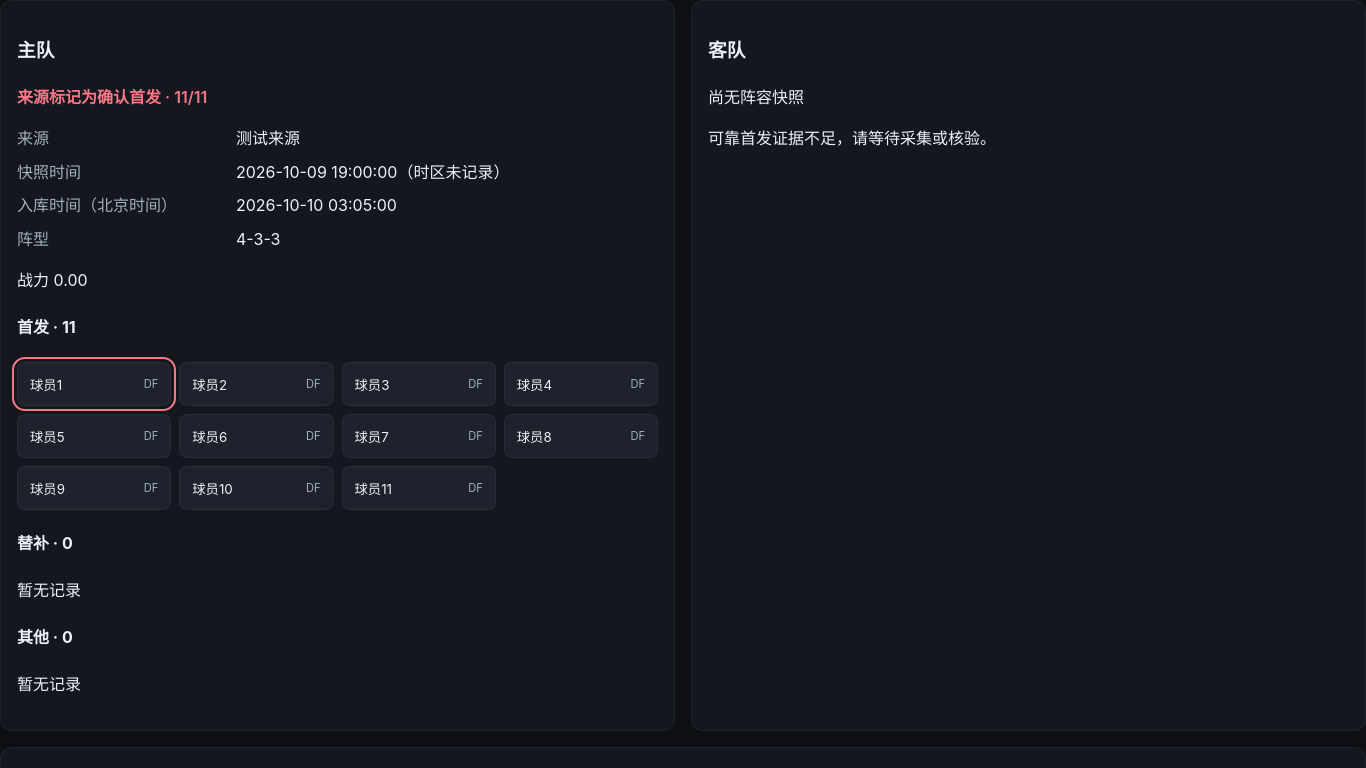
Scenario: shows source times, provenance, real zero and keyboard-operable player details without jersey IDs
(page scrolled)
Expected: the text "测试来源" is shown, 236,128 -> 300,148
Expected: the text "入库时间（北京时间）" is shown, 17,195 -> 177,215
Click the button with aria-label "选择球员 球员1". click: (94,384)
box: 17,362 -> 171,406
(page scrolled)
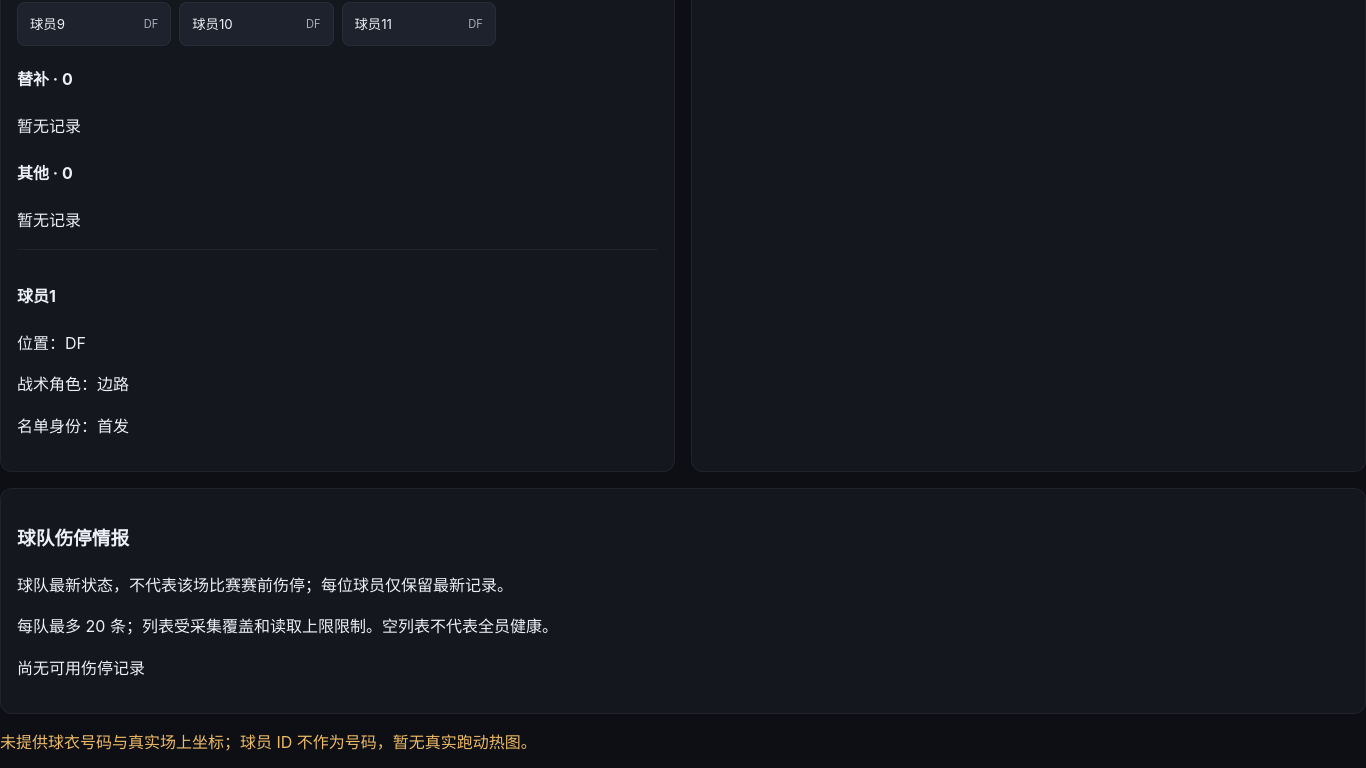
Now the text "战术角色：边路" is shown, box 17,374 -> 129,394
